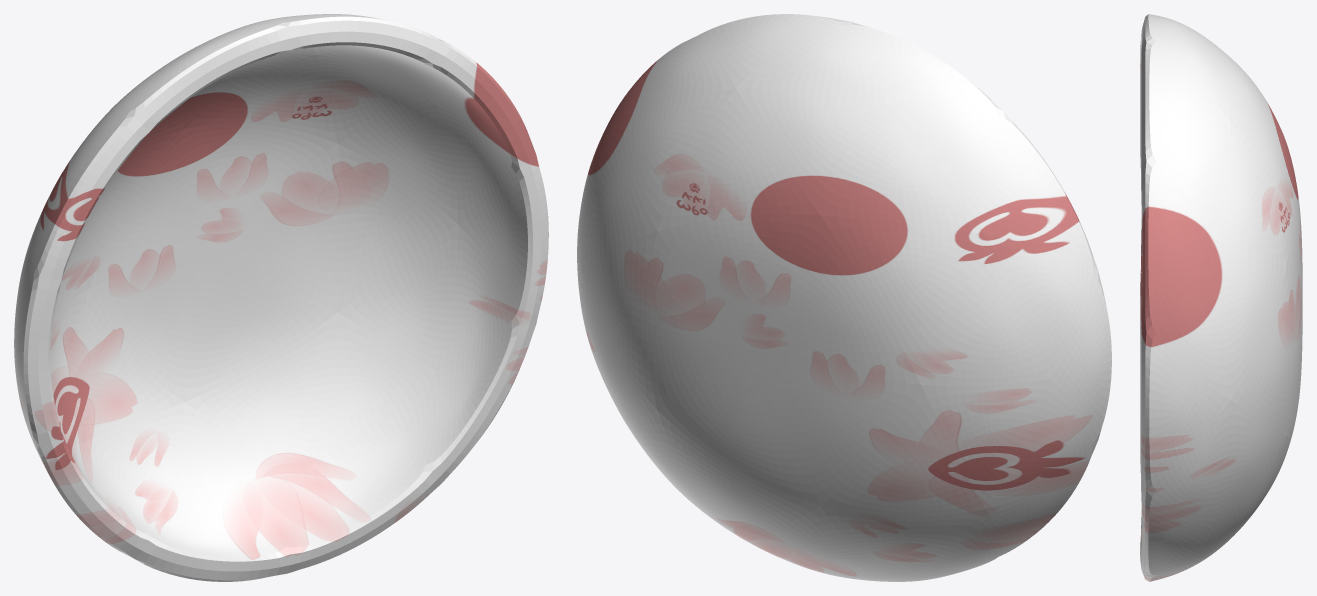
3 renders of one model, left to right at view 1: azimuth 30°, elevation 25°; view 2: azimuth 150°, elevation 25°; view 3: azimuth 270°, elevation 25°, orthographic. The views are drawn at different scales.
Size of the model in its own units: 1 by 0.997 by 0.2859.
